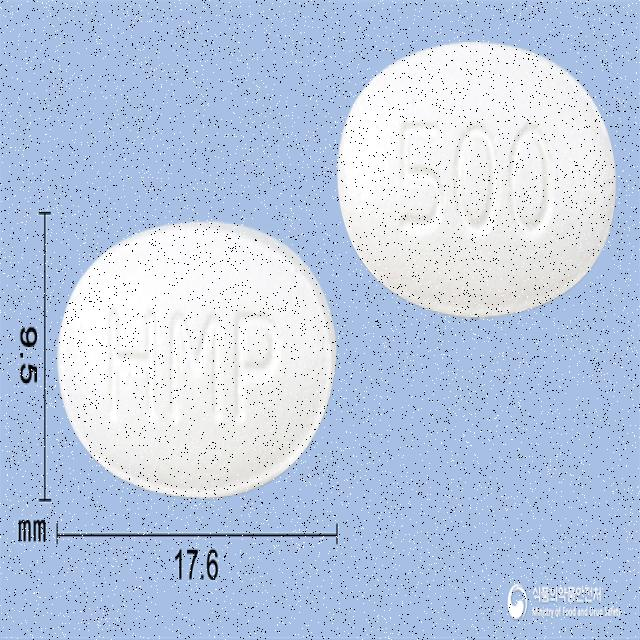Amoclan Duo Tab- Myungmoon: (332, 40, 621, 324), (55, 218, 340, 504)
